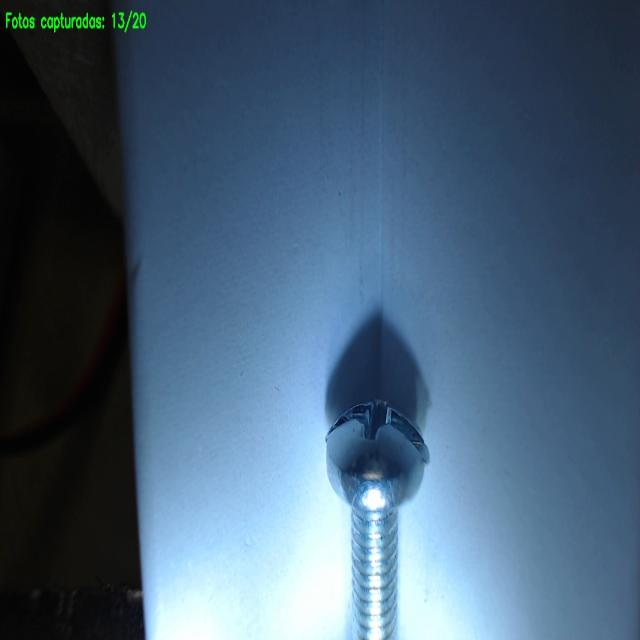vastago: (352, 508, 397, 639)
